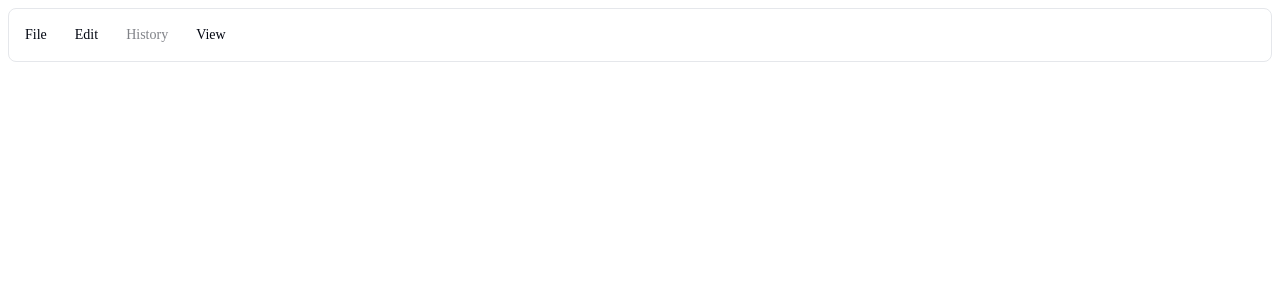
Test case: rendering › is a menu bar whose entries each open a menu
Step 1. Click the menu item "File" → (36, 35), box x1=13 y1=13 x2=59 y2=57
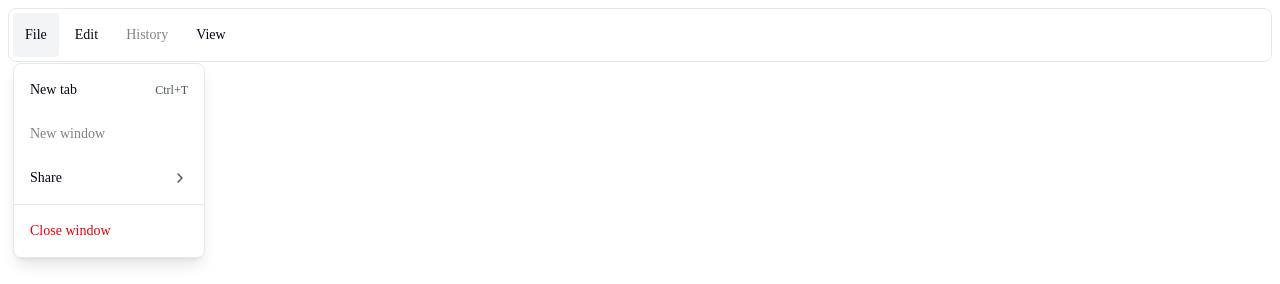
Result: the menu named "File" is shown at x1=13 y1=63 x2=205 y2=258
